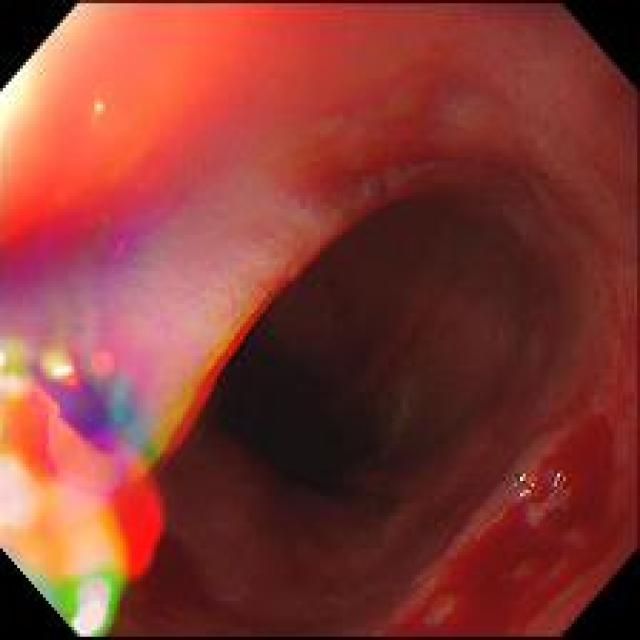blood: (383, 417, 627, 637)
color misalignment: (2, 53, 478, 637), (511, 474, 542, 510), (550, 471, 568, 494)
contrast: (214, 331, 369, 515)
saturation: (2, 53, 39, 136)
specularity: (76, 603, 105, 635), (51, 367, 74, 378), (96, 102, 104, 112), (556, 473, 561, 486), (522, 490, 530, 496), (520, 476, 525, 480)
